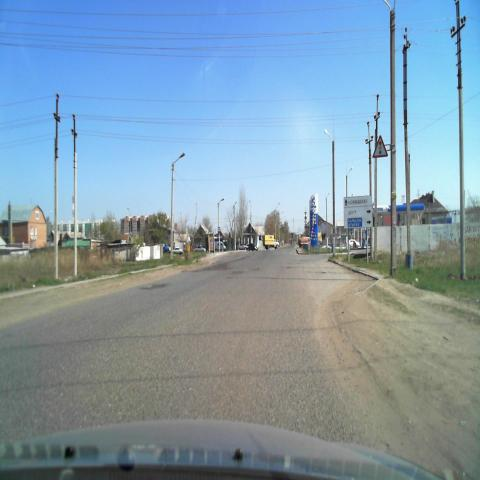1_8: (372, 135, 386, 157)
